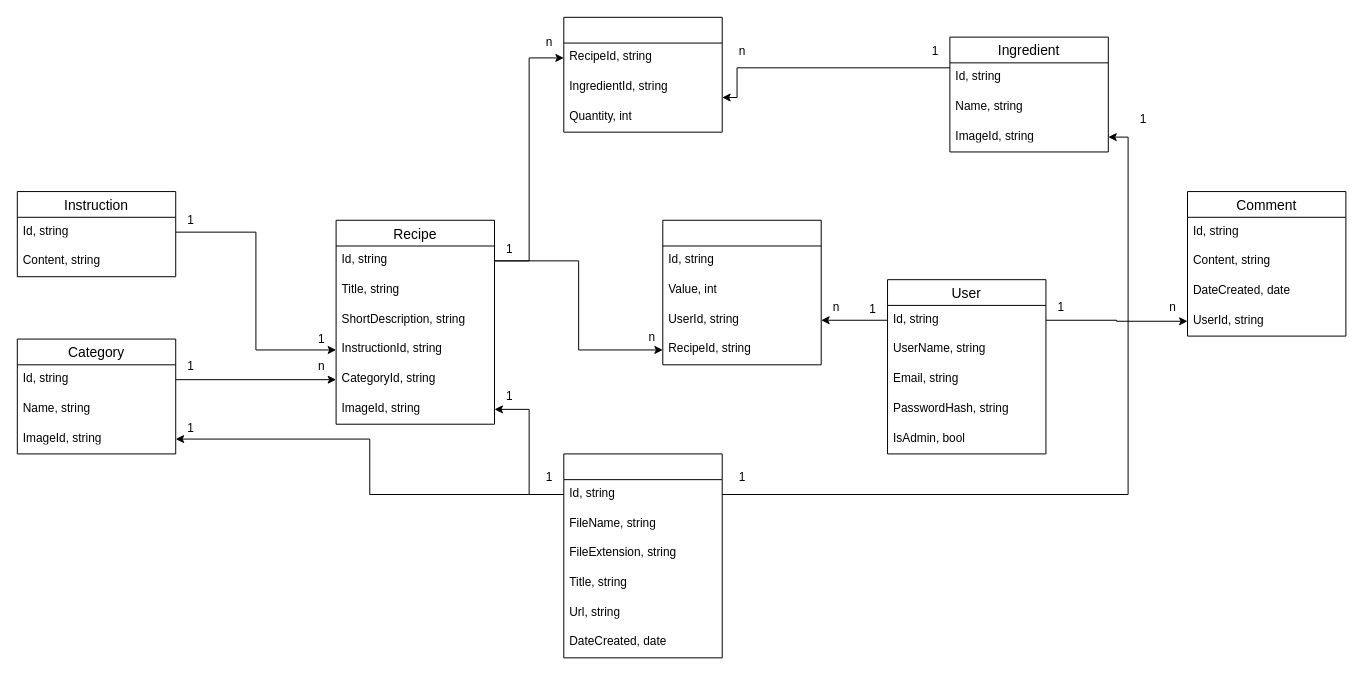
The diagram is 1363 pixels wide and 678 high, and some of its shapes have lost their labels. Here are the shapes that lost their labels. From the top down, the box of each, then its label:
(563, 16, 722, 132): RecipeIngredient
(662, 219, 821, 365): Rating
(563, 453, 722, 658): Image
